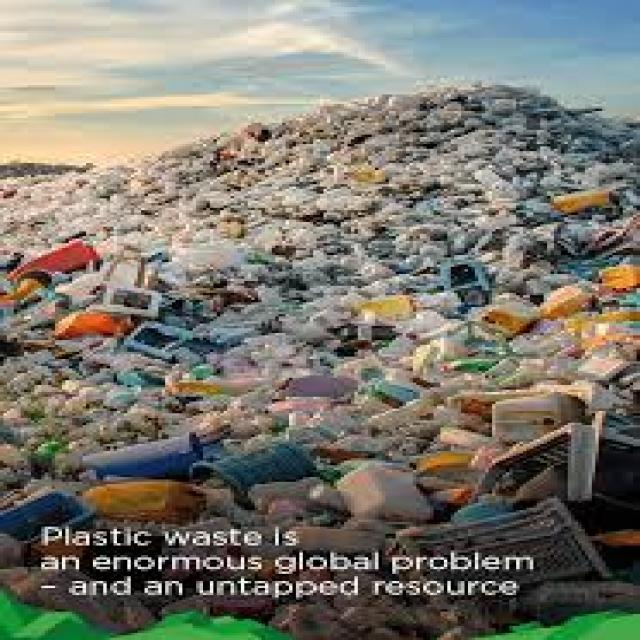heap: (13, 141, 608, 431)
